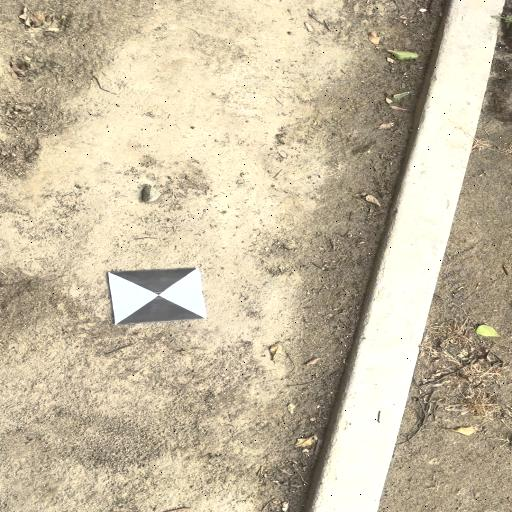target: (112, 267, 207, 324)
